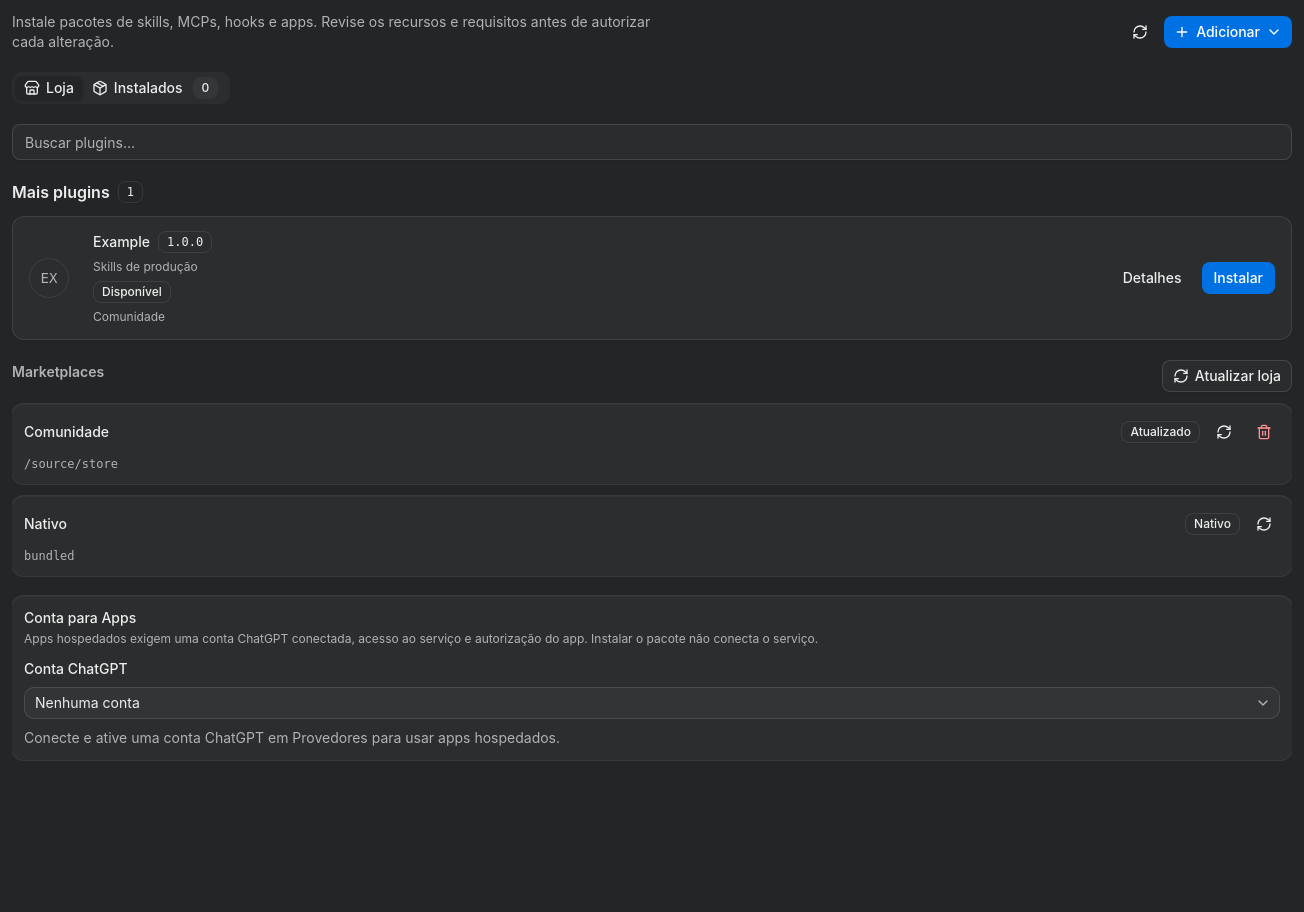
Test: PluginsSettings › shows real store packages, searches and protects native marketplaces
Expected: the button with aria-label "Instalar Example" is shown, [1202,262,1275,294]
Expected: the button named "Remover marketplace Comunidade" is shown, [1248,416,1280,448]
Type "inexistente" into the field labelled "Buscar plugins" at (652, 142), box [12,124,1292,160]
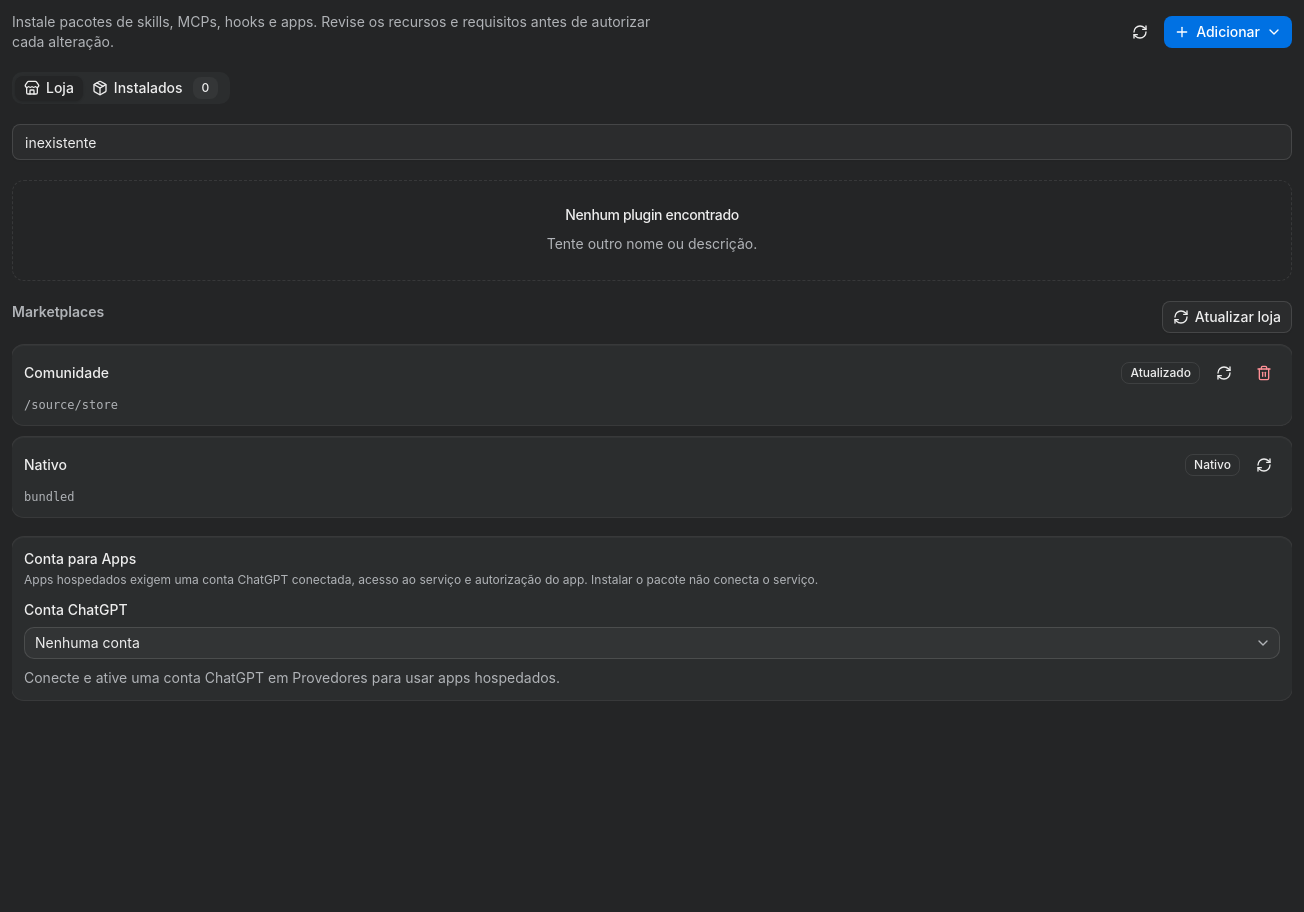
Expected: the text "Nenhum plugin encontrado" is shown, [565,205,739,225]
